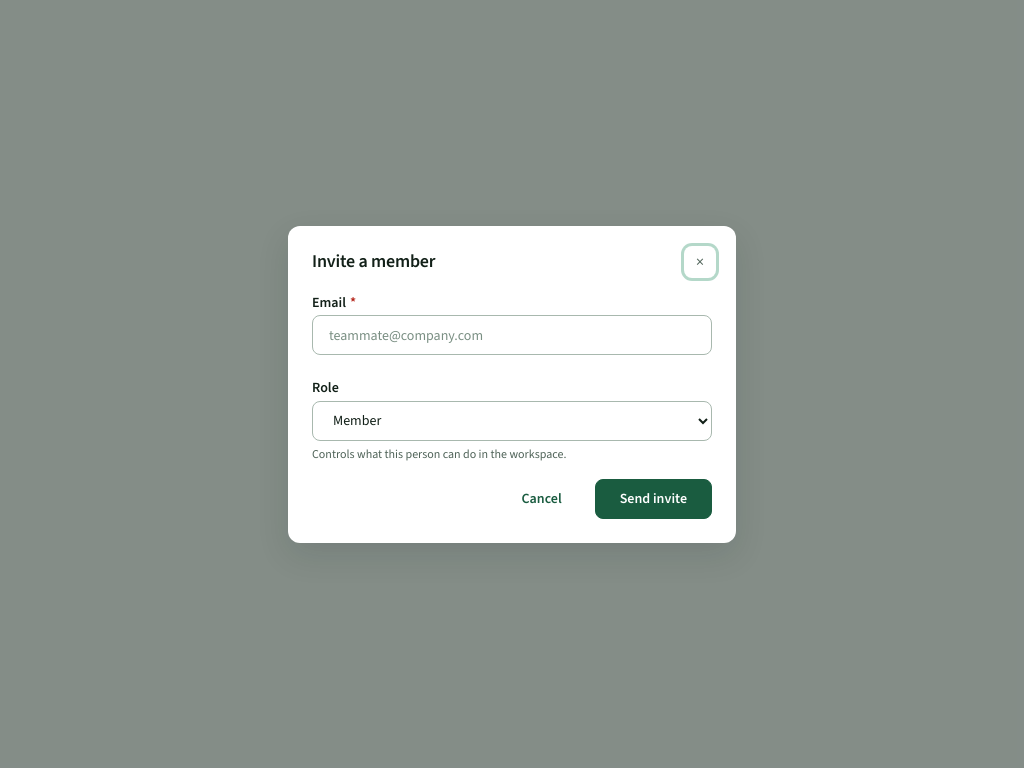
Test: InviteMemberDialog › shows conflict errors on the email field
In the field labelled "Email": (512,335) [312,315,712,355], type "taken@example.com"
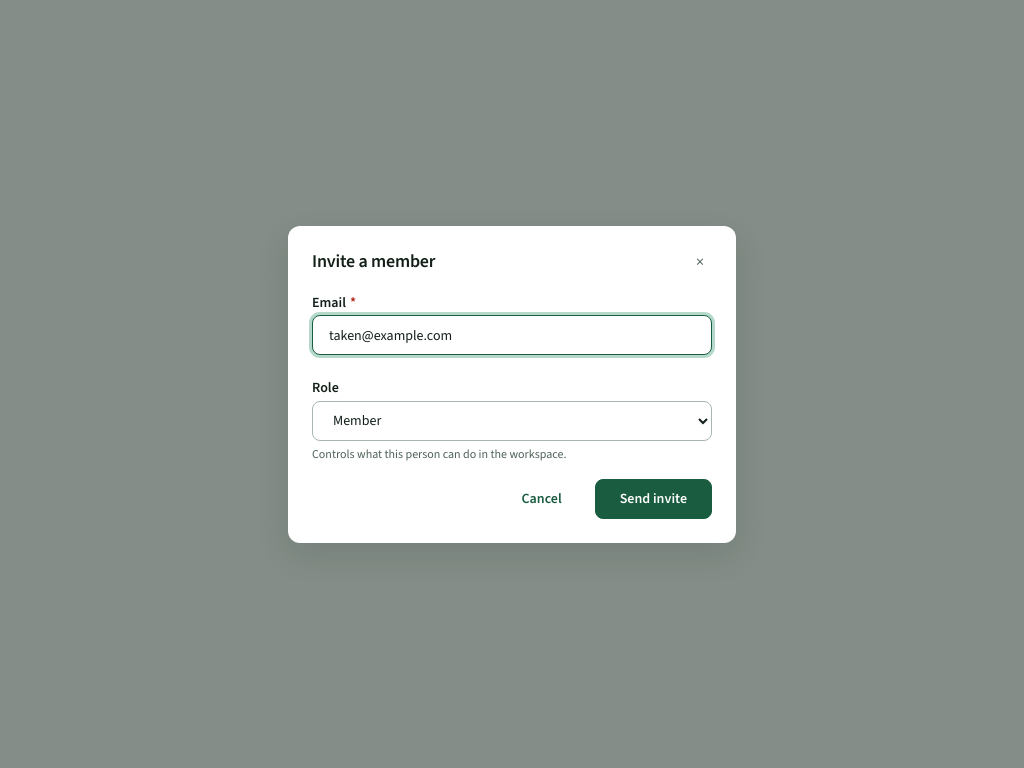
Click the button "Send invite": (653,498) [595,478,712,518]
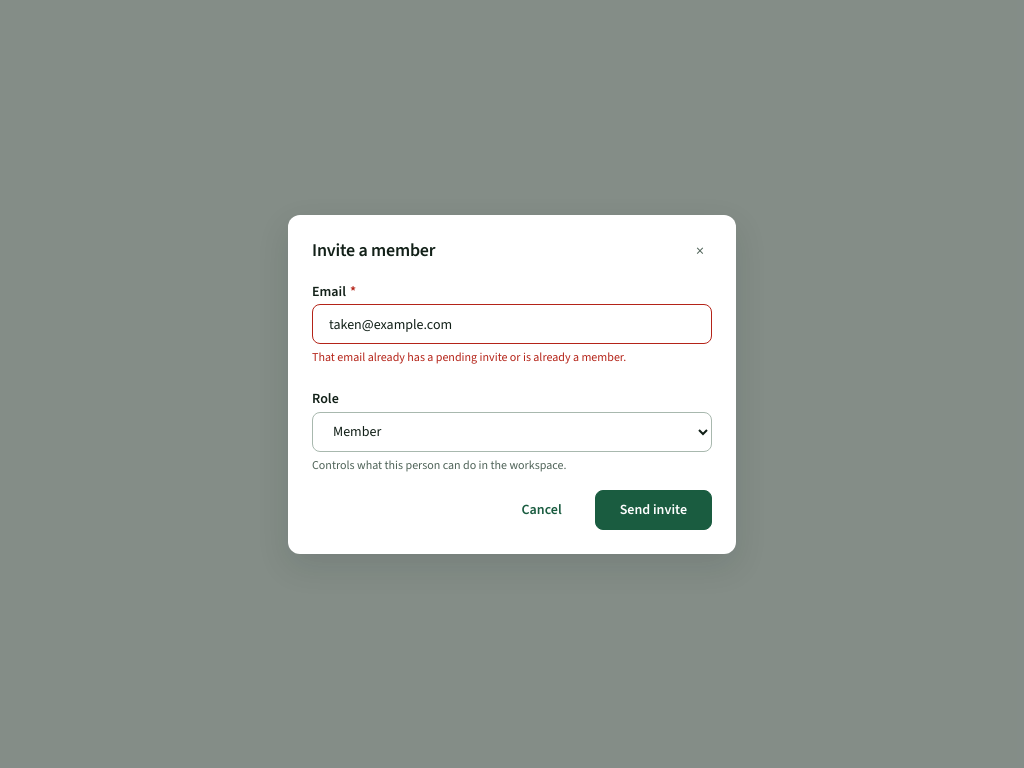
Now the text "That email already has a pending invite or is already a member." is shown, box [312,349,626,365]
